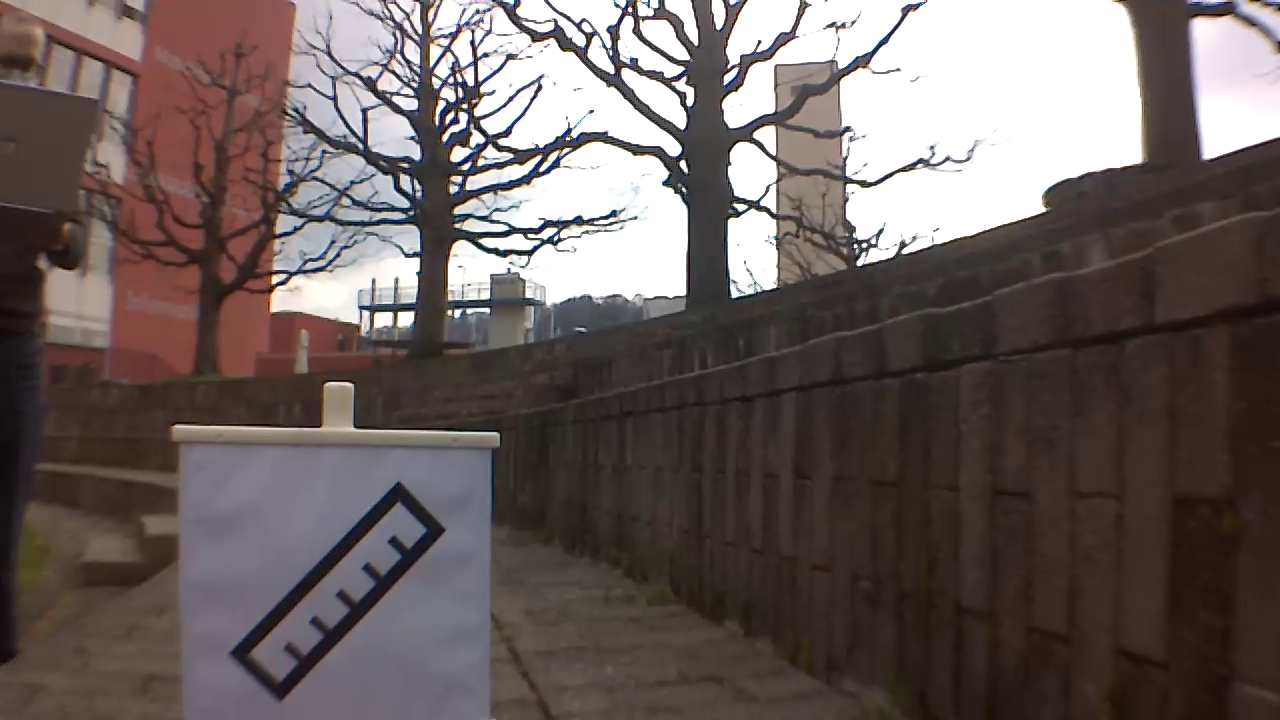ruler: (227, 479, 444, 702)
